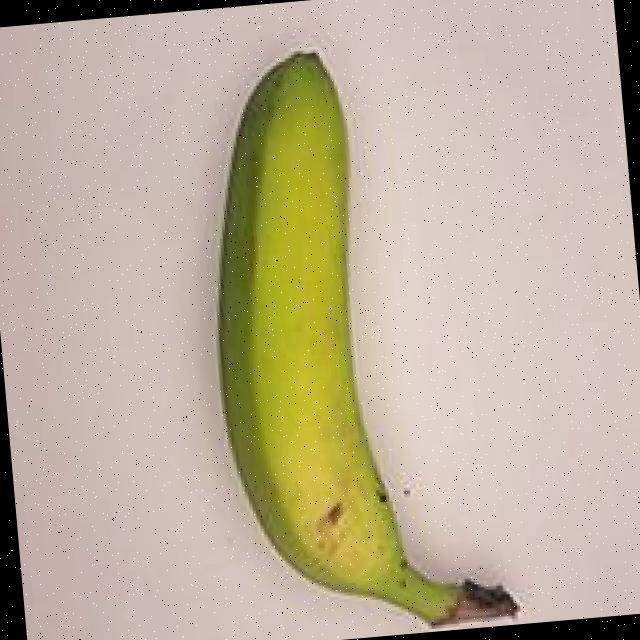Unripe: (145, 12, 539, 640)
